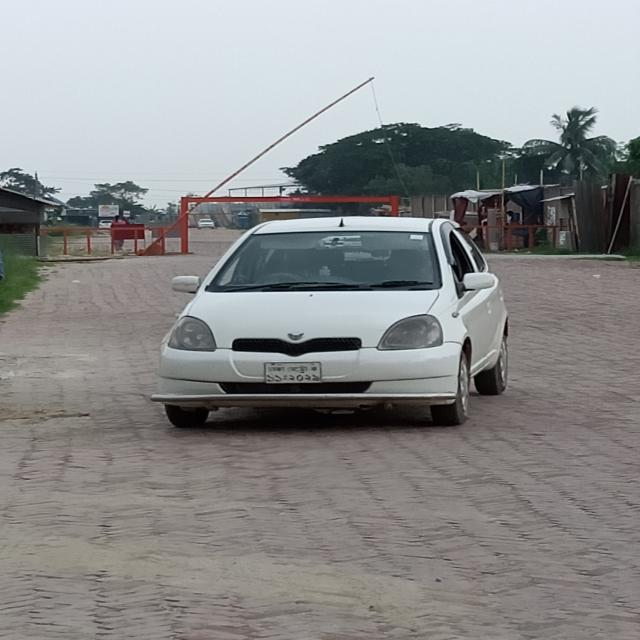car: (127, 211, 525, 432)
